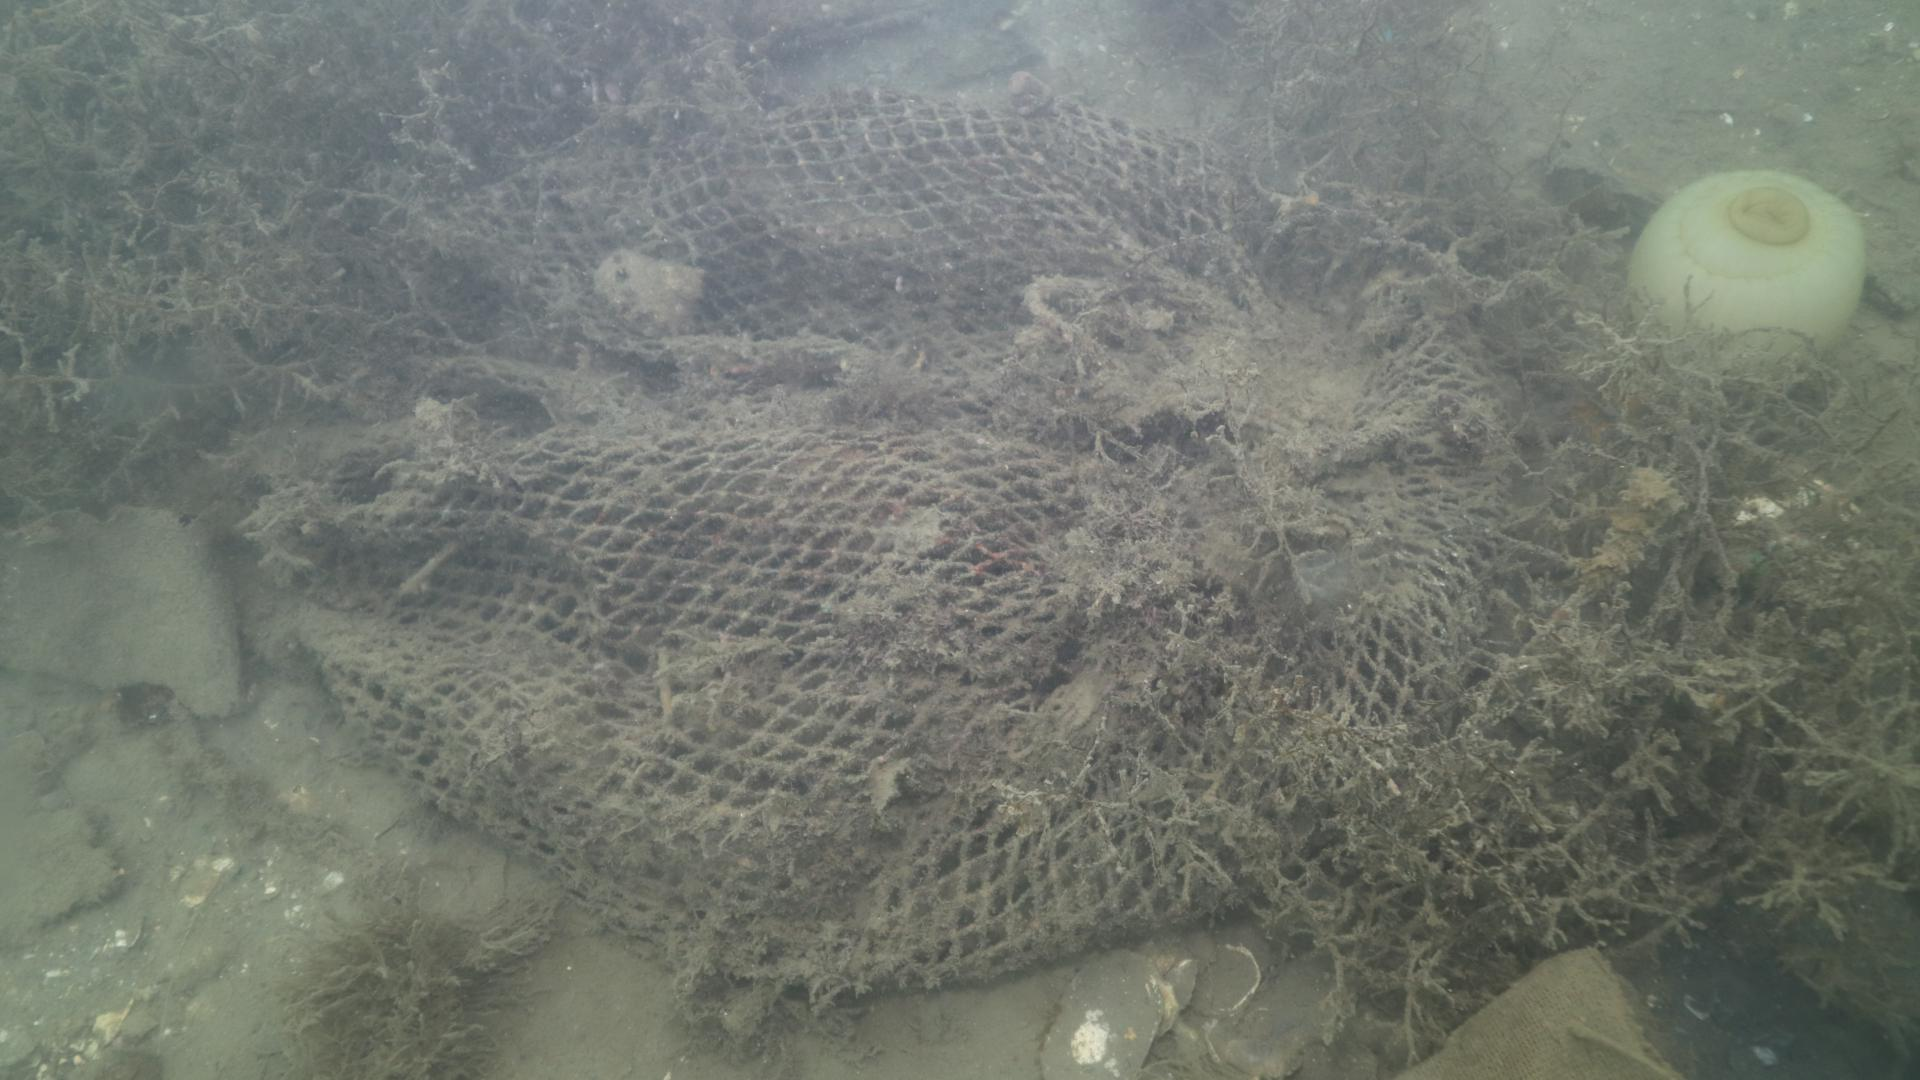fish net: (298, 84, 1516, 986)
